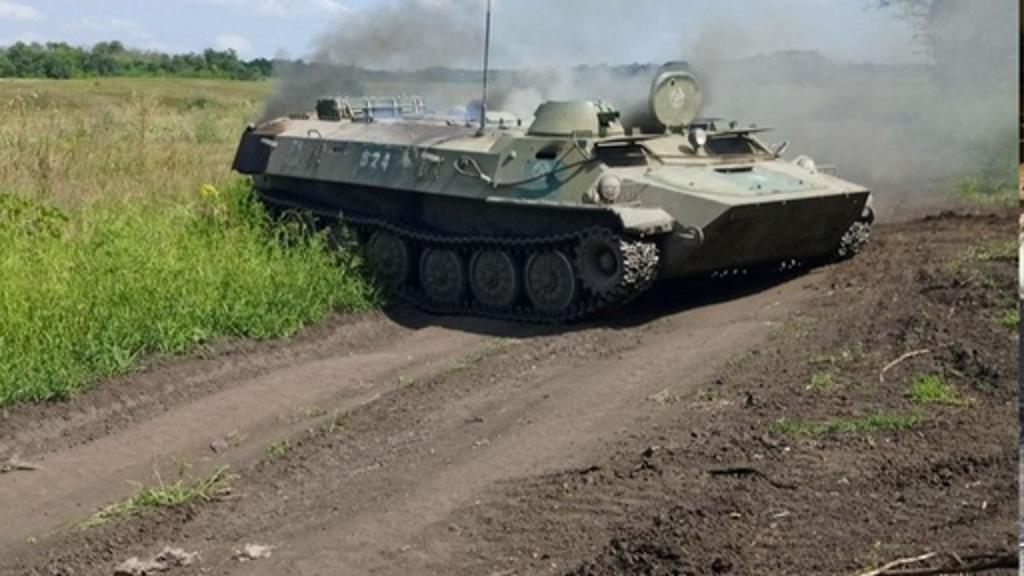APC-IFV: (218, 64, 882, 320)
